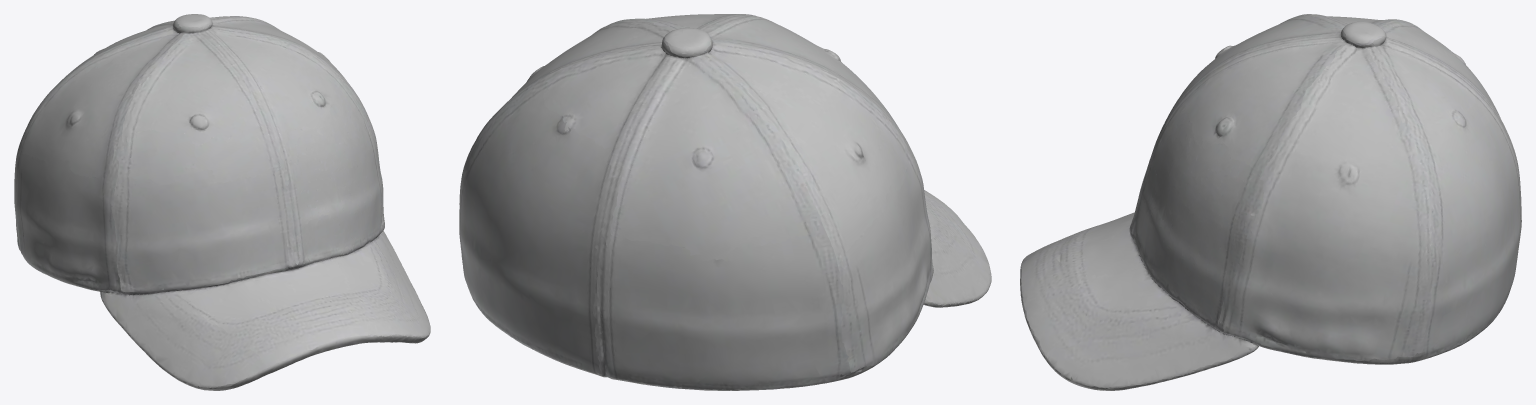
File: cap.glb
3 views of the same model, side by side, from view 1: azimuth 30°, elevation 25°; view 2: azimuth 150°, elevation 25°; view 3: azimuth 270°, elevation 25° (orthographic). The views are drawn at different scales.
Parts seen in each view (by area): view 1: geometry_0; view 2: geometry_0; view 3: geometry_0.
Part boxes in pixels (<box>): geometry_0: <box>14,14,430,390</box>; geometry_0: <box>459,14,991,390</box>; geometry_0: <box>1020,14,1521,390</box>.
Bounding box in the file's own units: 0.28 × 0.2152 × 0.3298.
1 material, 1 textured.
